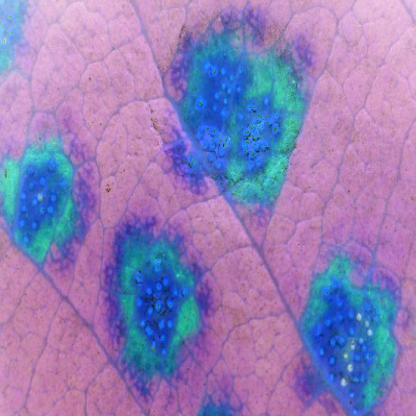Apple rust leaf: (1, 2, 406, 415)
